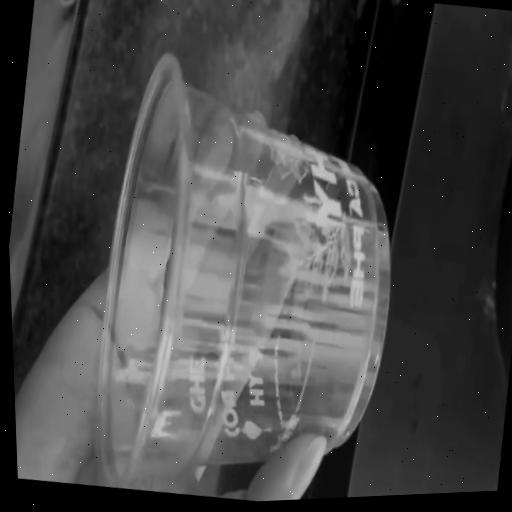ly_nhua: (97, 56, 389, 489)
